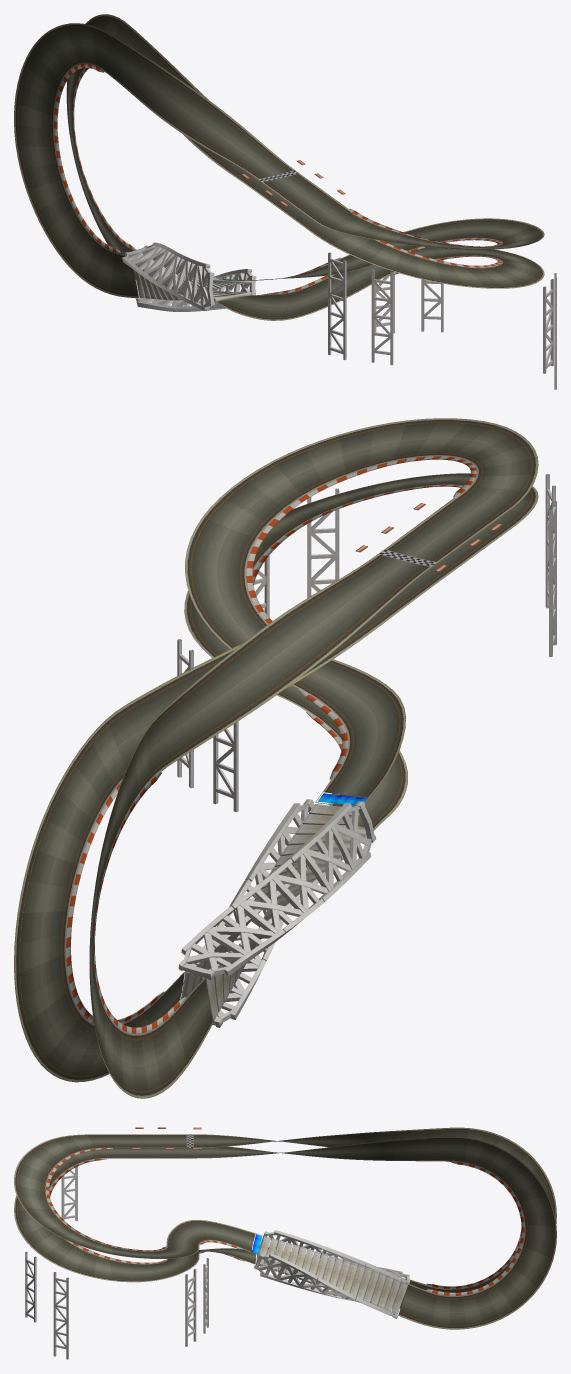
The model's file is mario_circuit_8_road.glb.
The picture shows the model from 3 angles, top to bottom: view 1: azimuth 30°, elevation 25°; view 2: azimuth 150°, elevation 25°; view 3: azimuth 270°, elevation 25°; orthographic projection. The views are drawn at different scales.
Visible parts, largest first — view 1: Object_8, Object_44, Object_66, Object_7, Object_16, Object_6, Object_51; view 2: Object_44, Object_8, Object_66, Object_7, Object_6, Object_16, Object_51; view 3: Object_8, Object_66, Object_44, Object_7, Object_6, Object_16, Object_51.
Boxes of the visible parts, x1,y1,x2,y2 form: Object_8: [14, 14, 544, 320]; Object_44: [158, 79, 544, 280]; Object_66: [122, 242, 556, 389]; Object_7: [14, 14, 544, 294]; Object_16: [54, 64, 501, 295]; Object_6: [330, 218, 544, 249]; Object_51: [241, 160, 501, 279]; Object_44: [185, 418, 538, 806]; Object_8: [14, 474, 538, 1098]; Object_66: [177, 474, 556, 1027]; Object_7: [14, 473, 537, 1097]; Object_6: [202, 418, 537, 538]; Object_16: [66, 484, 462, 1033]; Object_51: [246, 456, 502, 779]; Object_8: [14, 1127, 556, 1329]; Object_66: [25, 1166, 409, 1359]; Object_44: [14, 1133, 355, 1258]; Object_7: [14, 1128, 556, 1329]; Object_6: [14, 1134, 113, 1254]; Object_16: [49, 1158, 524, 1295]; Object_51: [46, 1127, 242, 1251].
Bounding box in the file's own units: 39.37 × 42.07 × 108.
11 materials, 10 textured.
